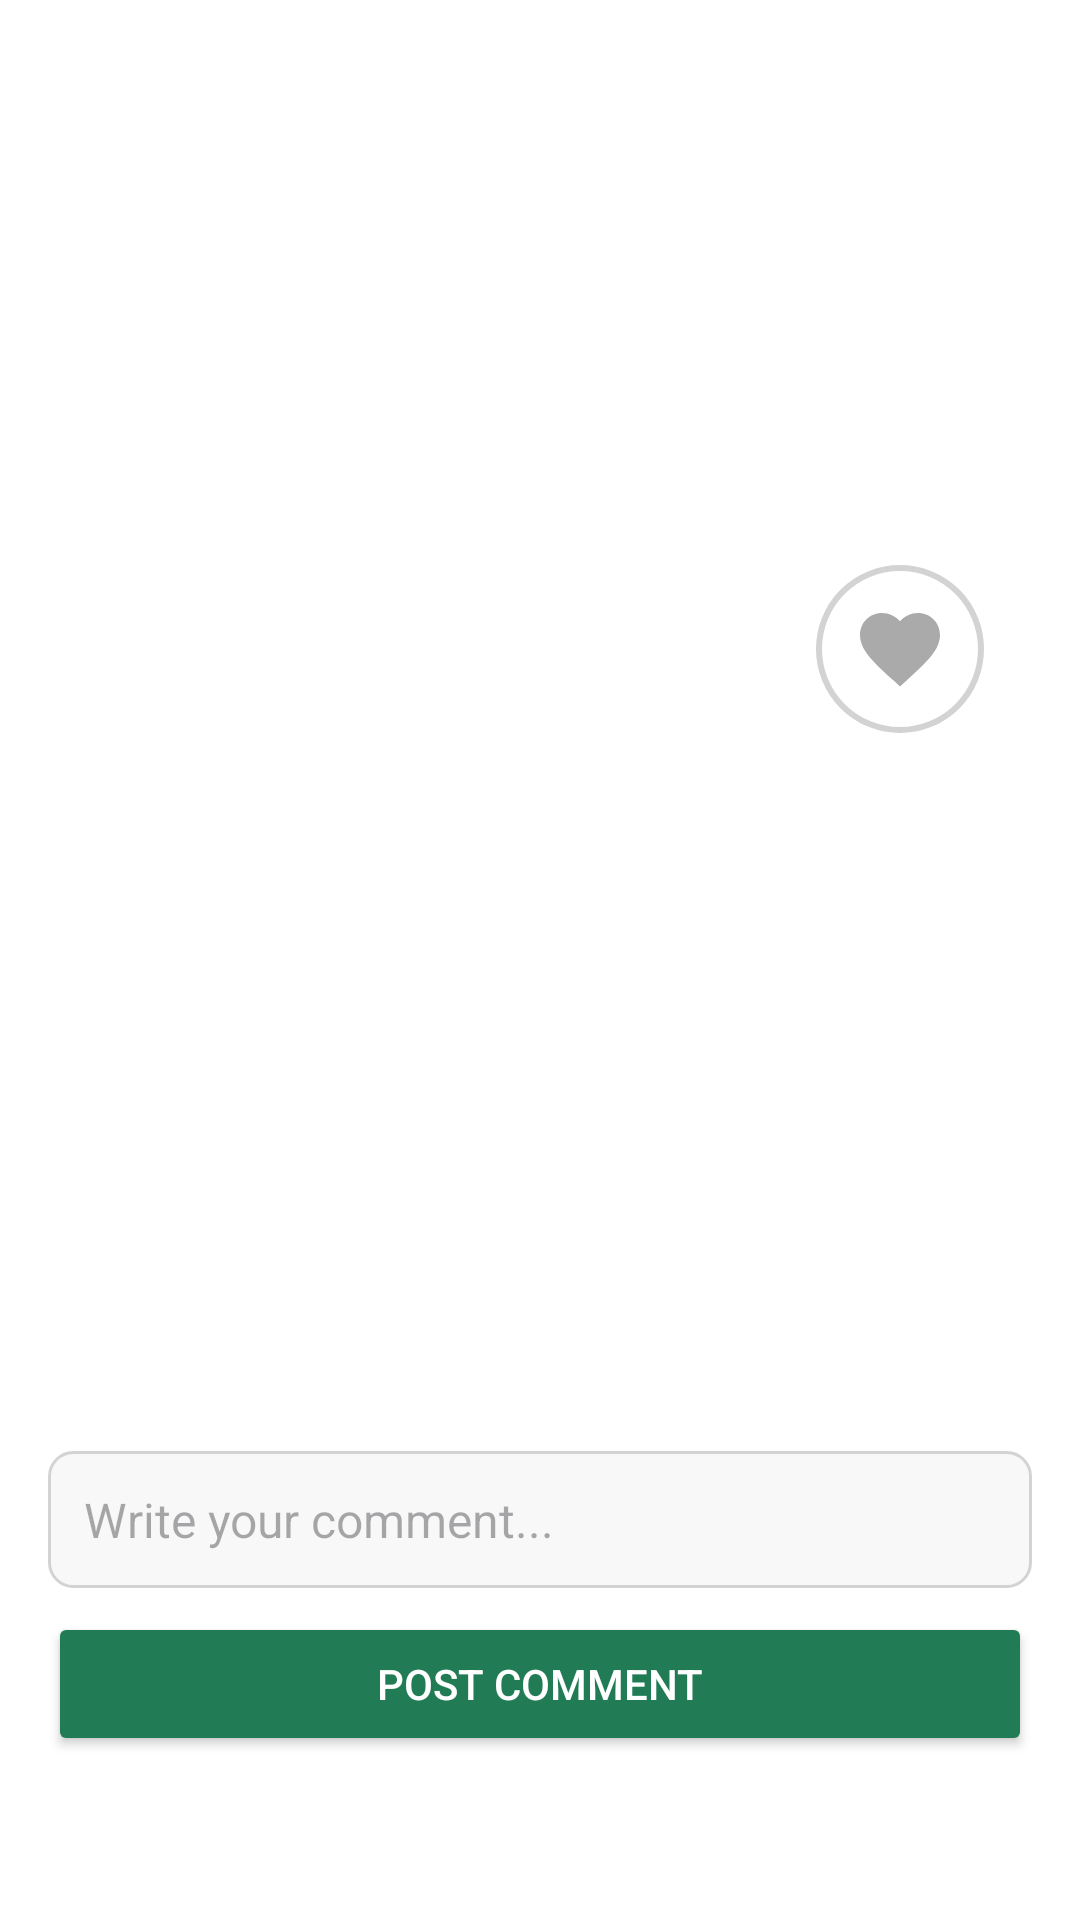

Screen size 1080px x 1920px. Icon name, then its box in pixels as (x1, y1, x2, y2):
Add to Favourites: (816, 565, 984, 733)
